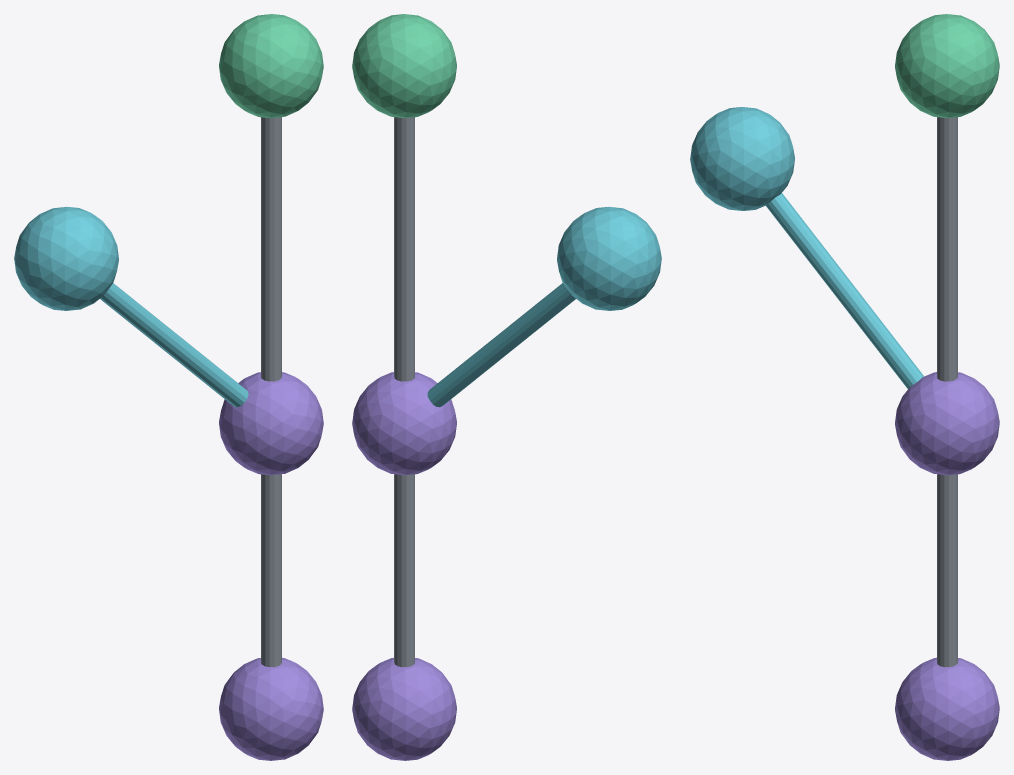
File: git.glb
3 views of the same model, side by side, from view 1: azimuth 30°, elevation 25°; view 2: azimuth 150°, elevation 25°; view 3: azimuth 330°, elevation 25° (orthographic).
Visible parts, largest first — view 1: world, main2, main1, branch; view 2: world, main2, main1, branch; view 3: world, main2, branch, main1.
Boxes of the visible parts, <box> form: world: <box>14,14,323,760</box>; main2: <box>261,117,281,381</box>; main1: <box>261,474,281,667</box>; branch: <box>100,283,248,407</box>; world: <box>352,14,661,760</box>; main2: <box>394,117,414,381</box>; main1: <box>394,474,414,667</box>; branch: <box>427,283,575,407</box>; world: <box>690,14,999,760</box>; main2: <box>937,117,957,381</box>; branch: <box>765,193,923,388</box>; main1: <box>937,474,957,667</box>.
Size of the model in its own units: 1.3 by 3.1 by 0.4.
